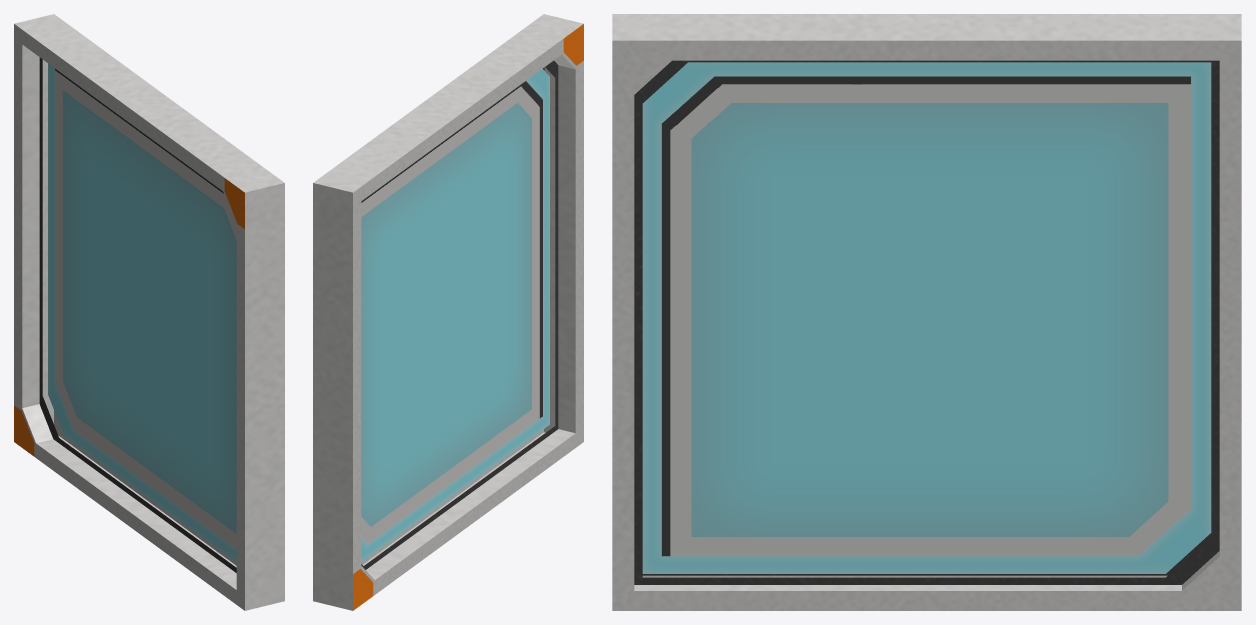
File: Wall_Windowed_1_LOD1.fbx
3 views of the same model, side by side, from view 1: azimuth 30°, elevation 25°; view 2: azimuth 150°, elevation 25°; view 3: azimuth 270°, elevation 25° (orthographic). The views are drawn at different scales.
Parts seen in each view (by area): view 1: Wall_Windowed_1_LOD1; view 2: Wall_Windowed_1_LOD1; view 3: Wall_Windowed_1_LOD1.
Part boxes in pixels (<box>): Wall_Windowed_1_LOD1: <box>14,14,284,610</box>; Wall_Windowed_1_LOD1: <box>313,14,583,610</box>; Wall_Windowed_1_LOD1: <box>612,14,1241,610</box>.
Size of the model in its own units: 20 by 200 by 200.
